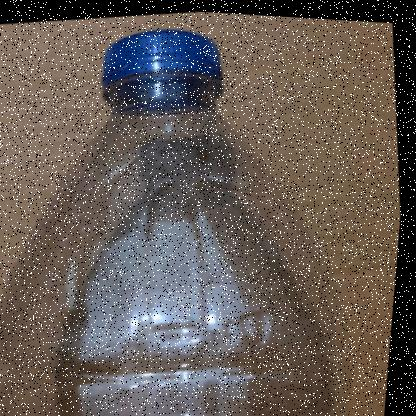bottle cap: (1, 1, 391, 412)
